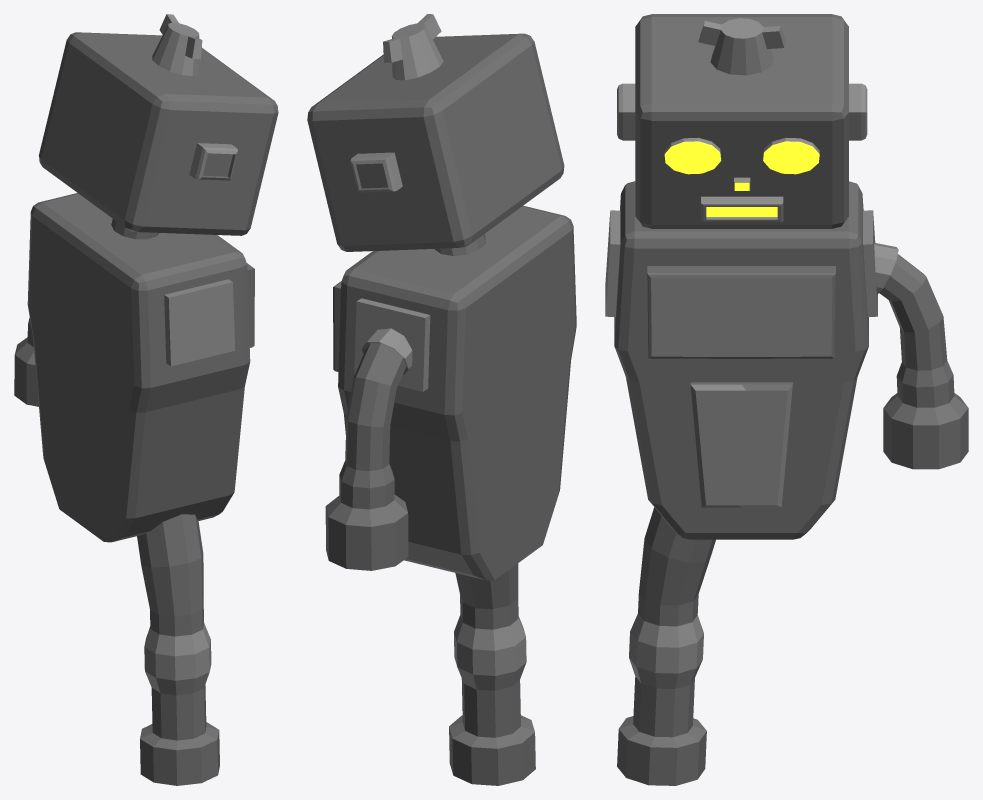
File: robot dañado1.glb
The picture shows the model from 3 angles, left to right: view 1: azimuth 30°, elevation 25°; view 2: azimuth 150°, elevation 25°; view 3: azimuth 270°, elevation 25°; orthographic projection. The views are drawn at different scales.
Parts seen in each view (by area): view 1: torso.001, cabeza.001, pierna 2, hombro2, brazo; view 2: torso.001, cabeza.001, pierna 2, brazo, hombro; view 3: torso.001, cabeza.001, pierna 2, brazo, hombro2, hombro.
Boxes of the visible parts, bbox=[...] form: torso.001: bbox=[27, 193, 254, 542]; cabeza.001: bbox=[38, 14, 278, 239]; pierna 2: bbox=[137, 514, 219, 785]; hombro2: bbox=[164, 279, 235, 366]; brazo: bbox=[14, 317, 38, 406]; torso.001: bbox=[333, 205, 576, 580]; cabeza.001: bbox=[307, 14, 564, 255]; pierna 2: bbox=[449, 563, 535, 785]; brazo: bbox=[325, 328, 412, 570]; hombro: bbox=[354, 298, 430, 391]; torso.001: bbox=[614, 181, 868, 539]; cabeza.001: bbox=[617, 14, 867, 228]; pierna 2: bbox=[617, 507, 715, 785]; brazo: bbox=[874, 243, 968, 469]; hombro2: bbox=[605, 210, 620, 317]; hombro: bbox=[863, 210, 877, 317].
Bounding box in the file's own units: 2.02 × 8.91 × 3.82.
